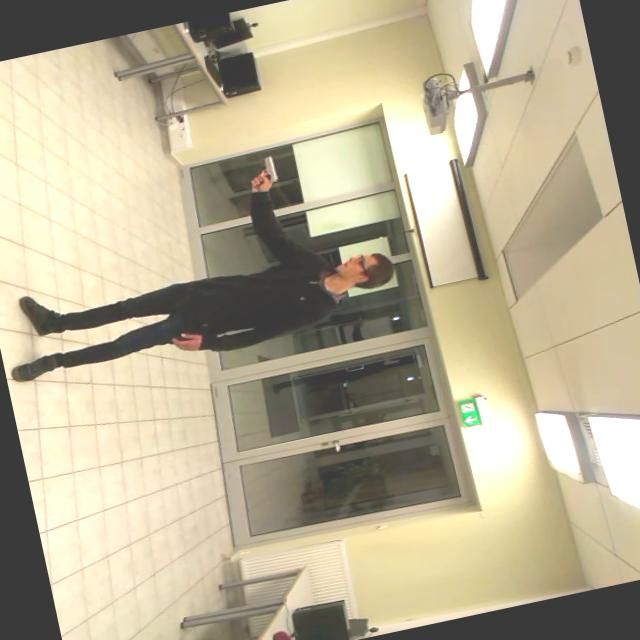handgun: (233, 154, 287, 196)
